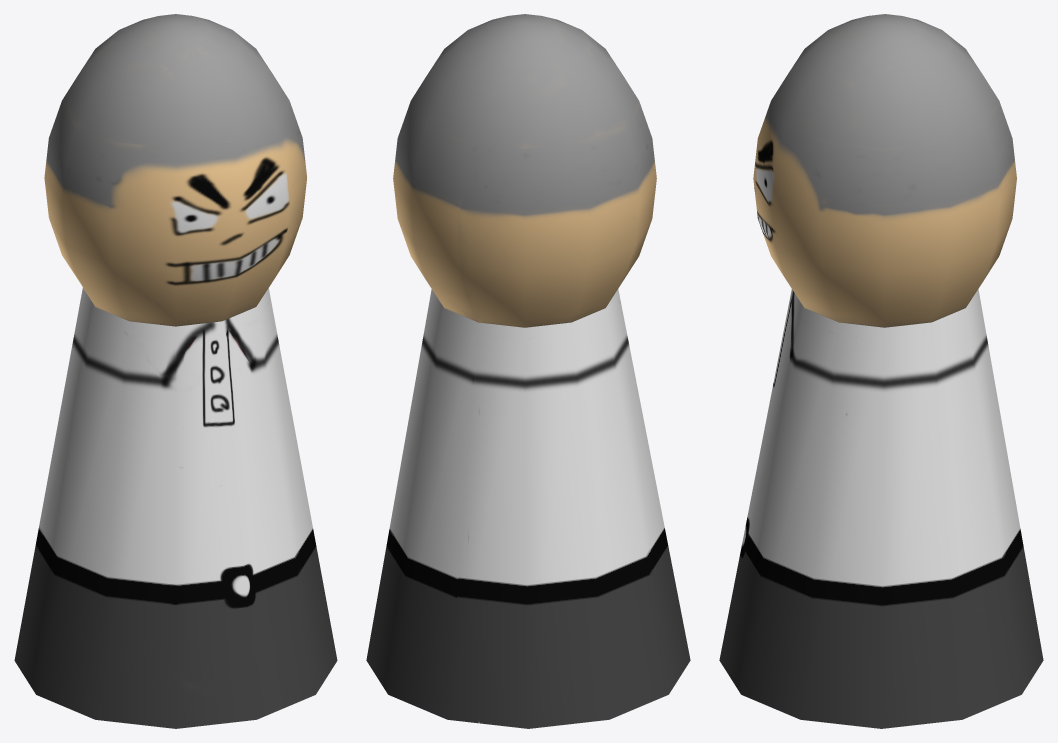
The model's file is Chara_syounen.fbx.
3 renders of one model, left to right at view 1: azimuth 30°, elevation 25°; view 2: azimuth 150°, elevation 25°; view 3: azimuth 270°, elevation 25°, orthographic.
Visible parts, largest first — view 1: pSphere2; view 2: pSphere2; view 3: pSphere2.
Part boxes in pixels (bbox=[...]): pSphere2: bbox=[14, 14, 337, 728]; pSphere2: bbox=[366, 14, 690, 728]; pSphere2: bbox=[719, 14, 1043, 728].
Size of the model in its own units: 2.3 by 5 by 2.3.
Materials: 1 (1 with a texture image).
